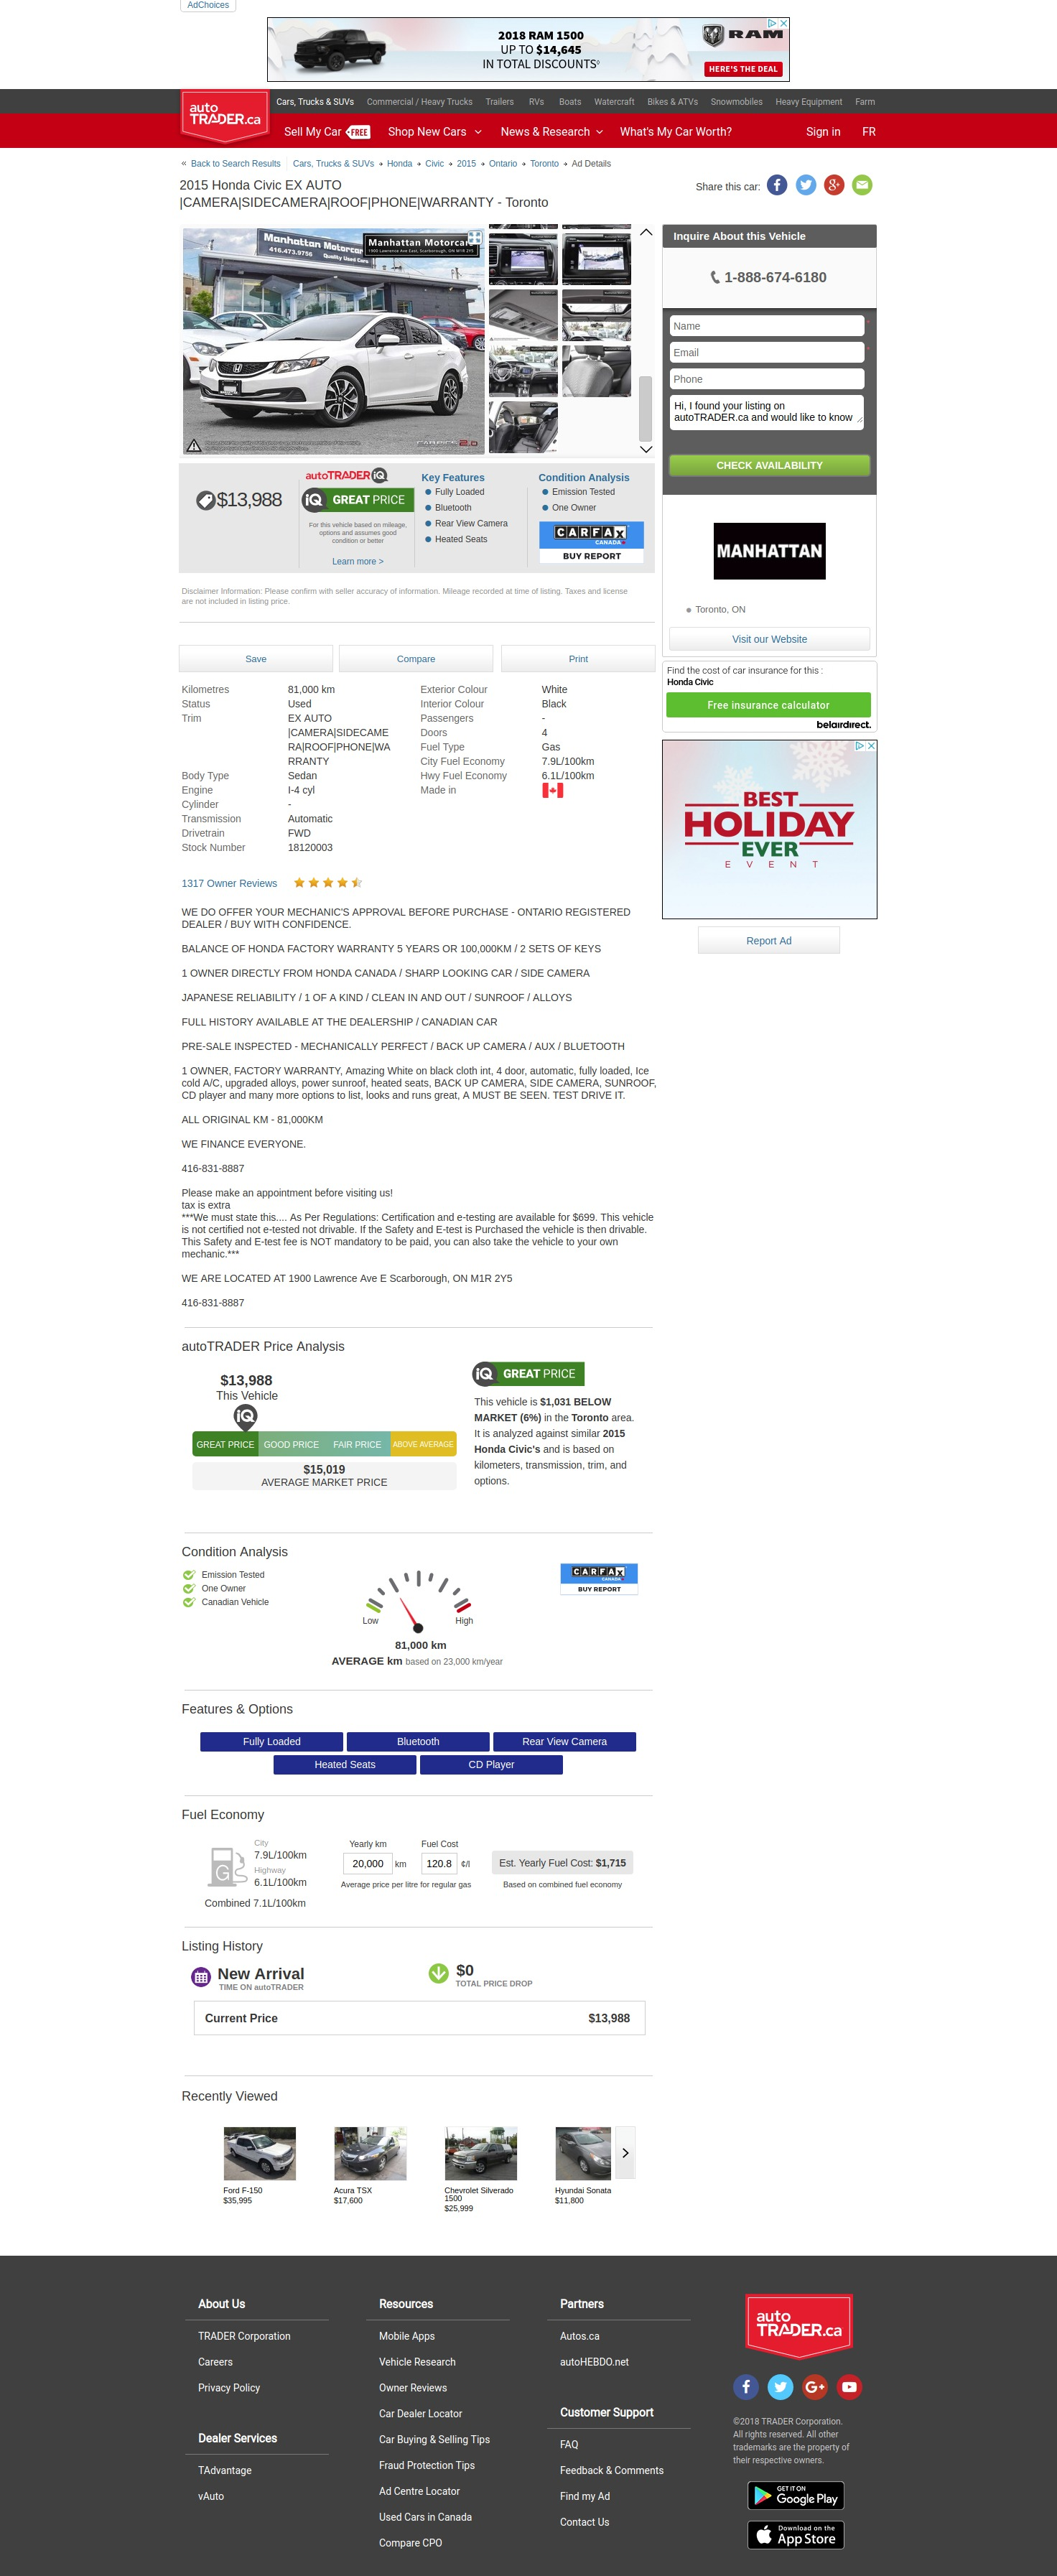car: (639, 445, 654, 455)
